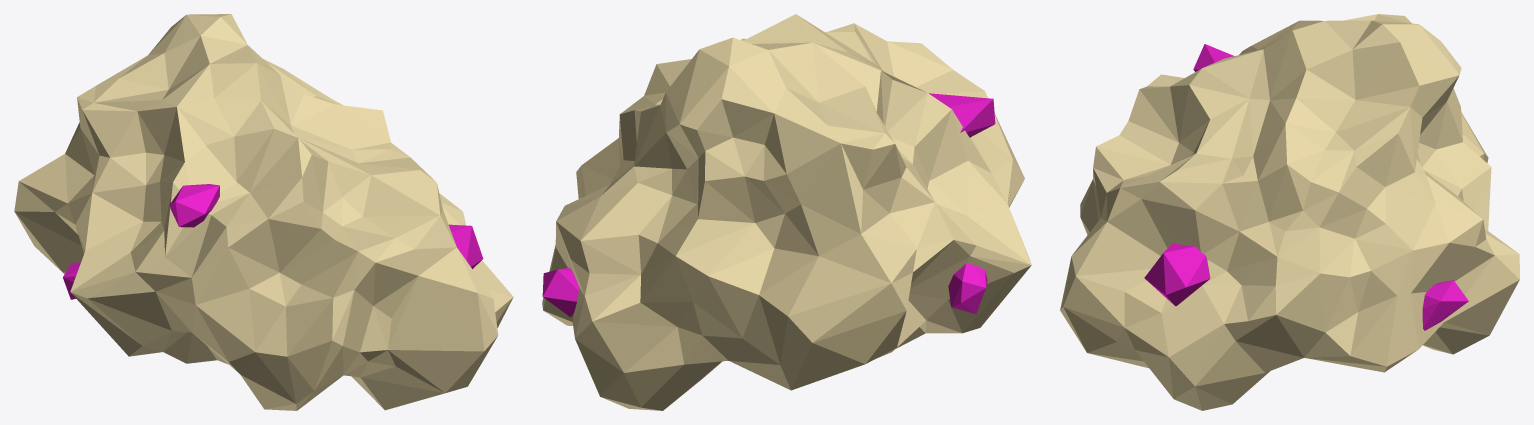
Rendered from CrystalOre (30).fbx.
3 views of the same model, side by side, from view 1: azimuth 30°, elevation 25°; view 2: azimuth 150°, elevation 25°; view 3: azimuth 270°, elevation 25° (orthographic). The views are drawn at different scales.
Parts seen in each view (by area): view 1: Asteroid250; view 2: Asteroid250; view 3: Asteroid250.
Boxes of the visible parts, <box> form: Asteroid250: <box>14,14,513,410</box>; Asteroid250: <box>542,14,1031,410</box>; Asteroid250: <box>1060,14,1519,410</box>.
Size of the model in its own units: 380 by 306 by 389.
